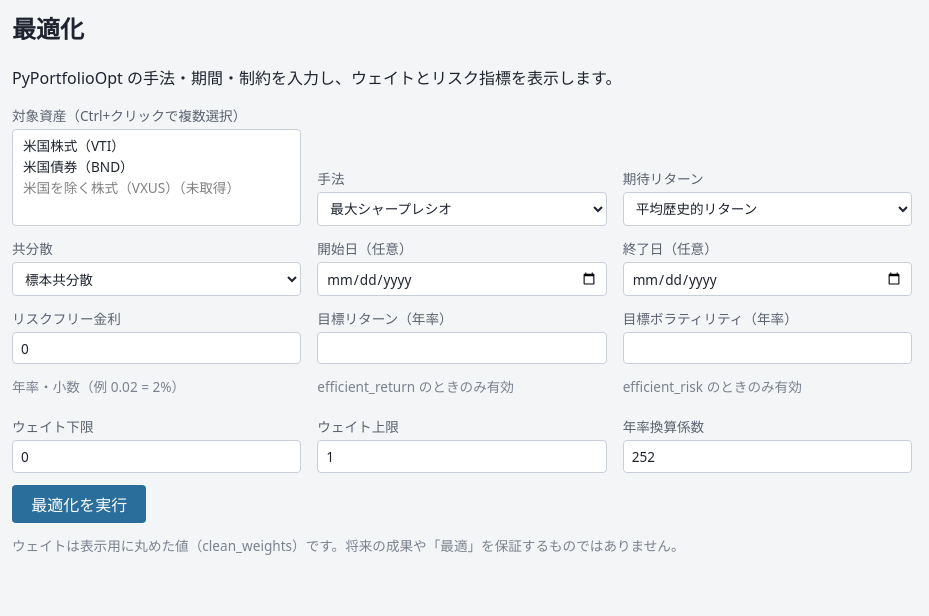
OptimizationScreen › バックエンドが400（日本語 detail）を返すとエラーを表示する
Select "us_equity, us_bond" in the dropdown labelled "対象資産（Ctrl+クリックで複数選択）" at (157, 177), box [12,129,301,226]
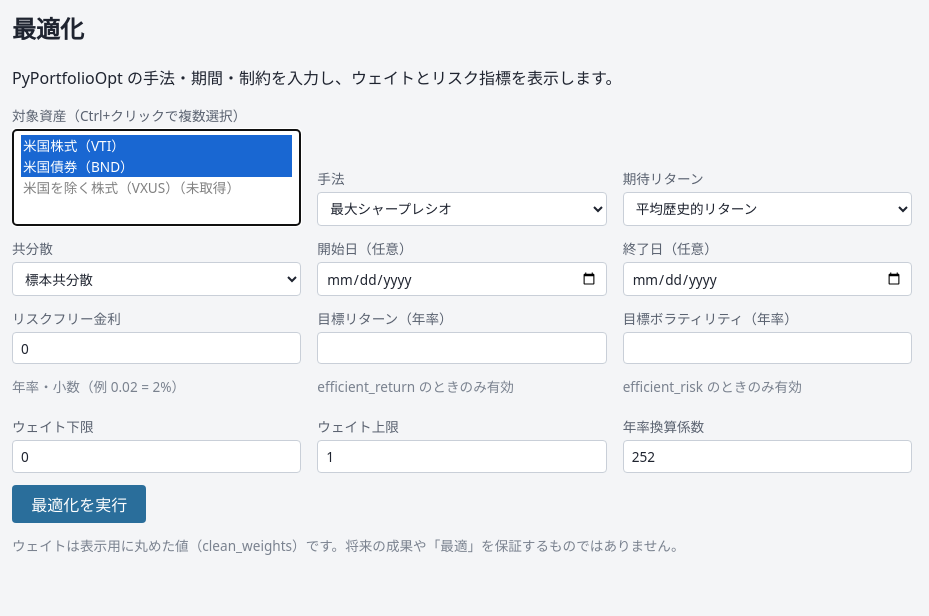
Click the button "最適化を実行".
click(79, 504)  # box [12,485,146,523]
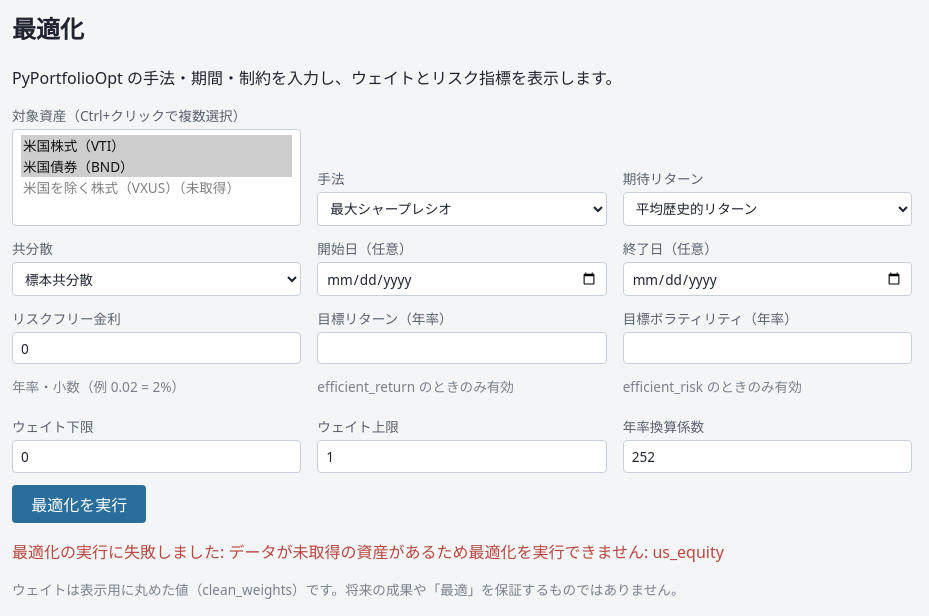
Now the text "最適化の実行に失敗しました: データが未取得の資産があるため最適化を実行できません: us_equity" is shown, box [12,541,724,563]
